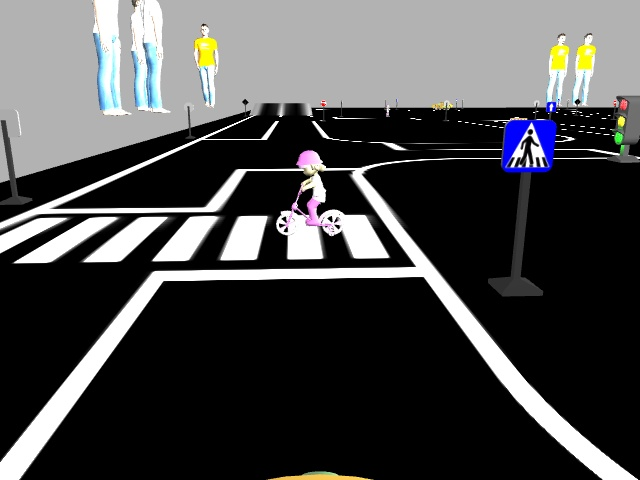Crosswalk: (503, 119, 556, 172)
Pedestrian: (274, 149, 349, 237)
TrafficLight: (613, 91, 638, 146)
